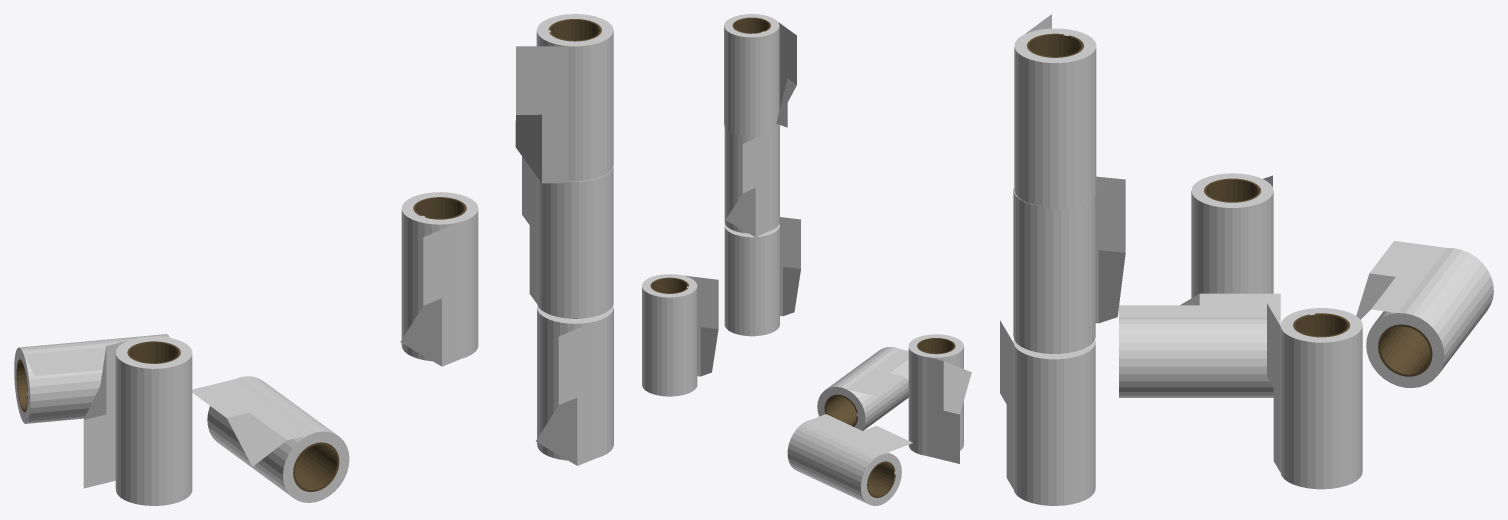
File: papelhigienico.glb
3 renders of one model, left to right at view 1: azimuth 30°, elevation 25°; view 2: azimuth 150°, elevation 25°; view 3: azimuth 270°, elevation 25°, orthographic. The views are drawn at different scales.
Parts seen in each view (by area): view 1: Cylinder.007; view 2: Cylinder.007; view 3: Cylinder.007.
Boxes of the visible parts, box(x1,y1,x2,y2) form: Cylinder.007: box(14, 14, 613, 505); Cylinder.007: box(642, 14, 971, 505); Cylinder.007: box(1000, 14, 1493, 505).
Size of the model in its own units: 0.6527 by 0.6452 by 0.6171.
